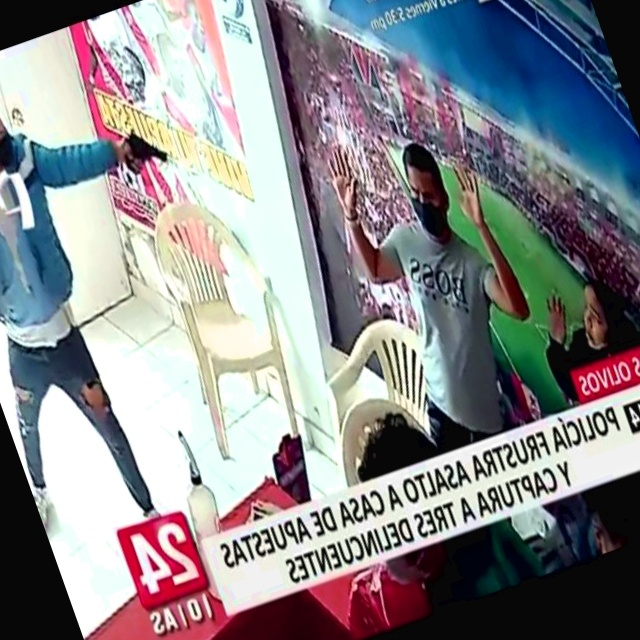gun: (107, 101, 185, 198)
